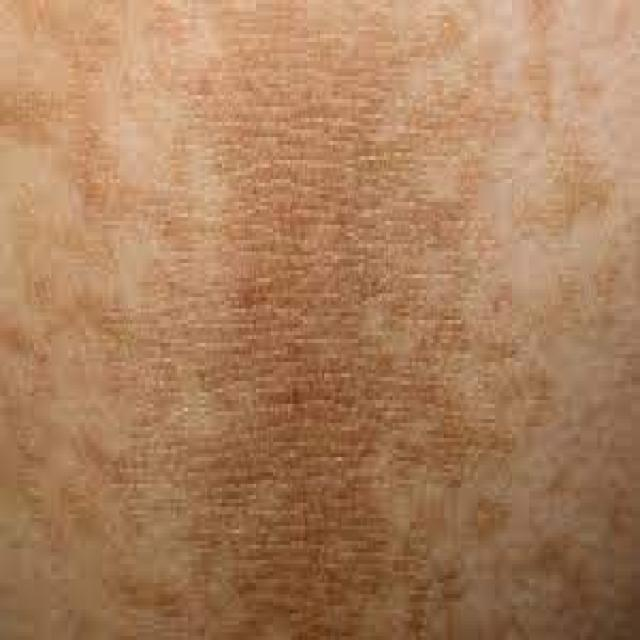Acanthosis Nigricans: (159, 24, 611, 626)
